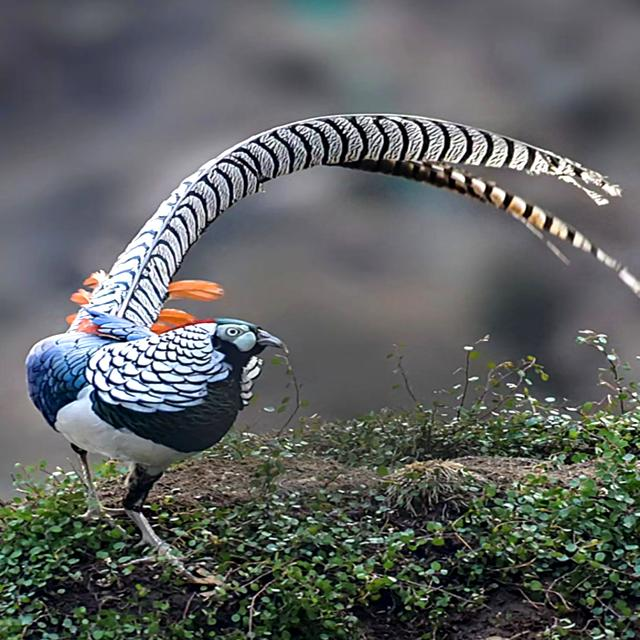Chrysolophus amherstiae: (94, 114, 639, 327)
